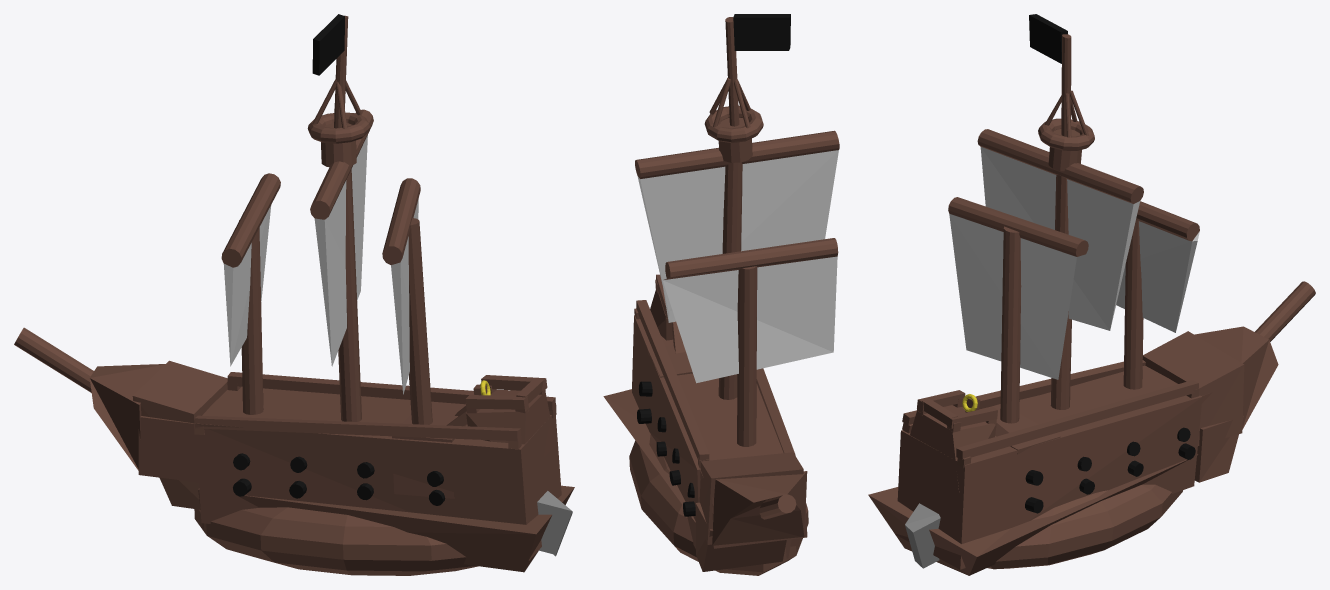
Rendered from asset.gltf.
3 views of the same model, side by side, from view 1: azimuth 30°, elevation 25°; view 2: azimuth 150°, elevation 25°; view 3: azimuth 270°, elevation 25° (orthographic). The views are drawn at different scales.
Parts seen in each view (by area): view 1: node_MeshObject1617988096-PolyPaper20; view 2: node_MeshObject1617988096-PolyPaper20; view 3: node_MeshObject1617988096-PolyPaper20.
Boxes of the visible parts, x1,y1,x2,y2 form: node_MeshObject1617988096-PolyPaper20: (14, 14, 574, 575); node_MeshObject1617988096-PolyPaper20: (603, 14, 839, 575); node_MeshObject1617988096-PolyPaper20: (868, 14, 1315, 575).
Size of the model in its own units: 0.8401 by 1.16 by 0.9305.
